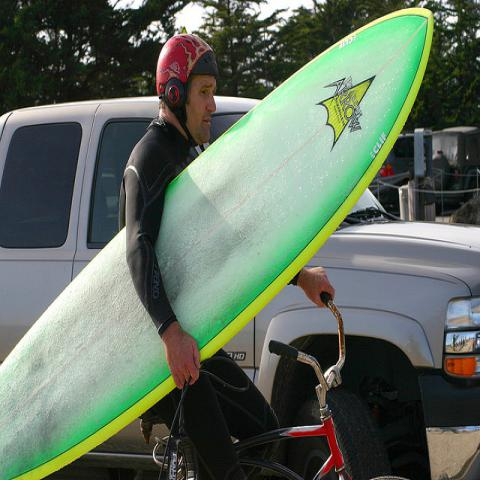car: (374, 132, 414, 179)
truck: (0, 92, 479, 474)
